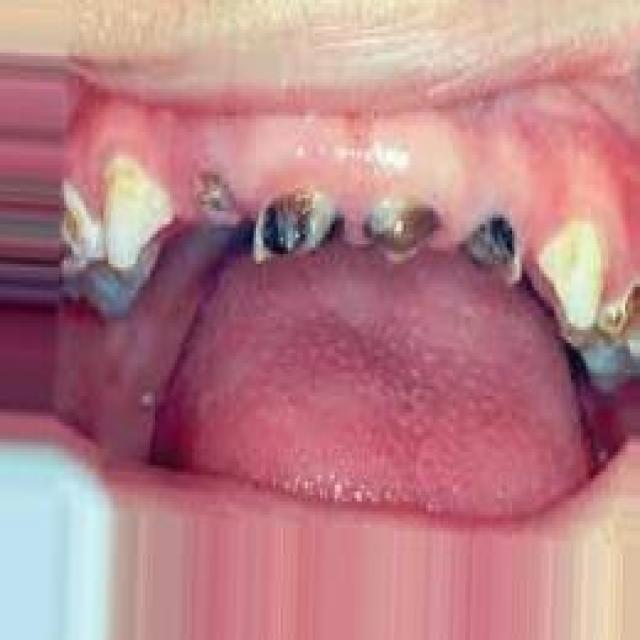caries: (247, 176, 338, 270), (359, 185, 443, 274), (577, 268, 640, 377), (185, 155, 255, 245), (466, 215, 534, 293)
